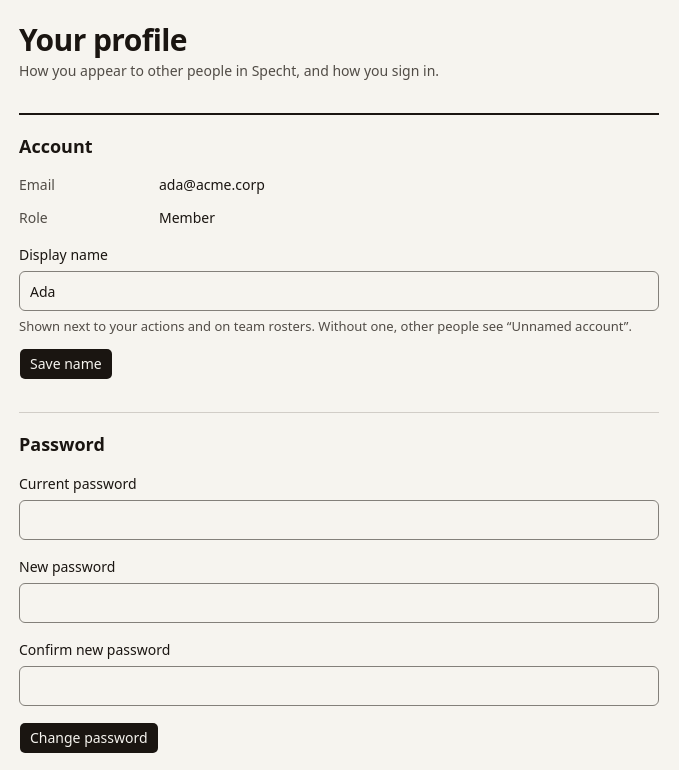
Test: Profile › changing the password › refuses a password that breaks the rules
Type "old-password-1" into the password field labelled "Current password". click: (339, 520)
box: [19,500,659,540]
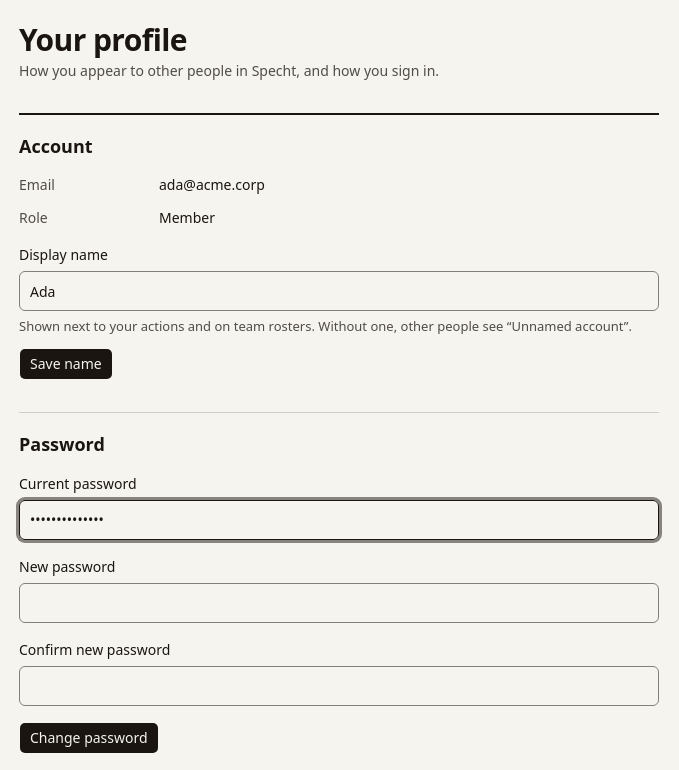
Type "short" into the password field labelled "New password". click: (339, 603)
box: [19,583,659,623]
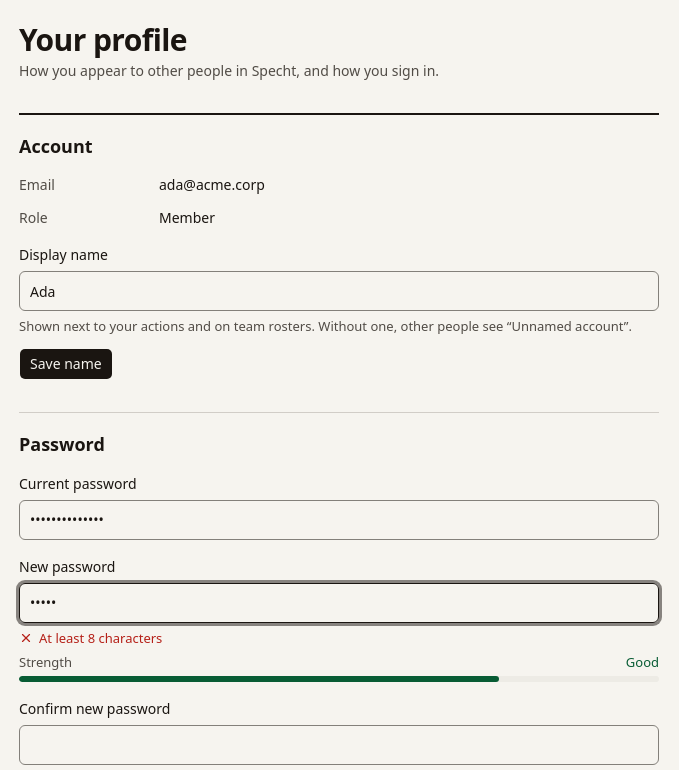
Type "short" into the password field labelled "Confirm new password". click: (339, 745)
box: [19,725,659,765]
(page scrolled)
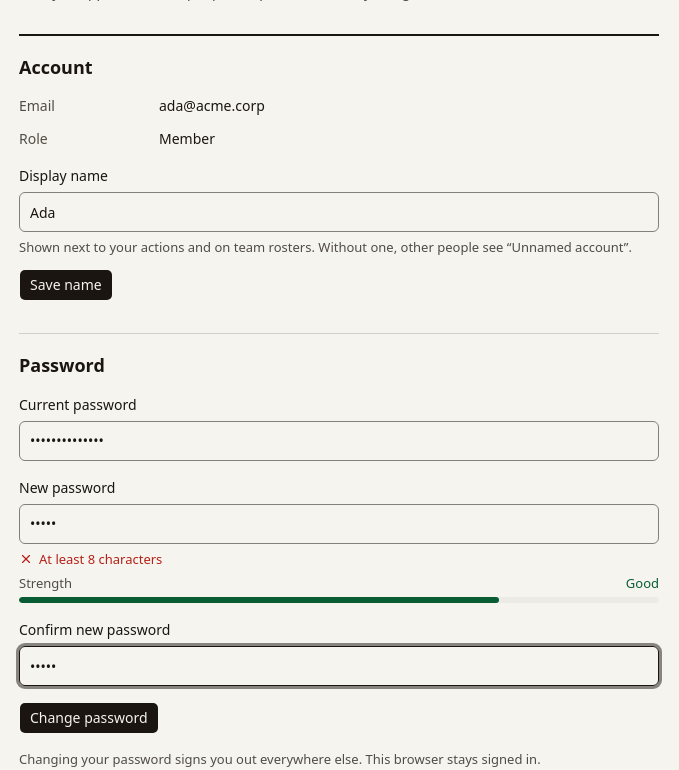
Click the button "Change password". click: (89, 718)
box: [19,702,159,734]
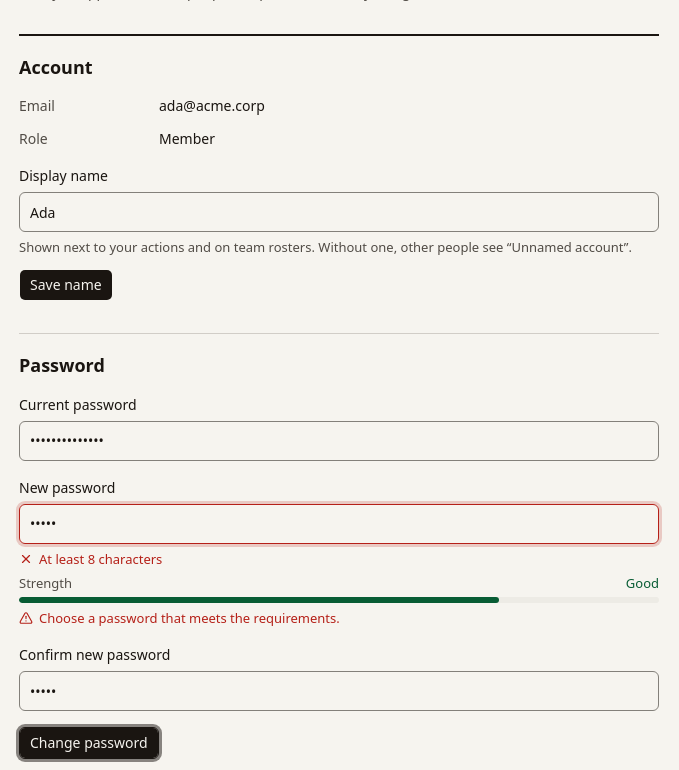
Check: the text "Choose a password that meets the requirements." is shown, box [19,609,340,627]
